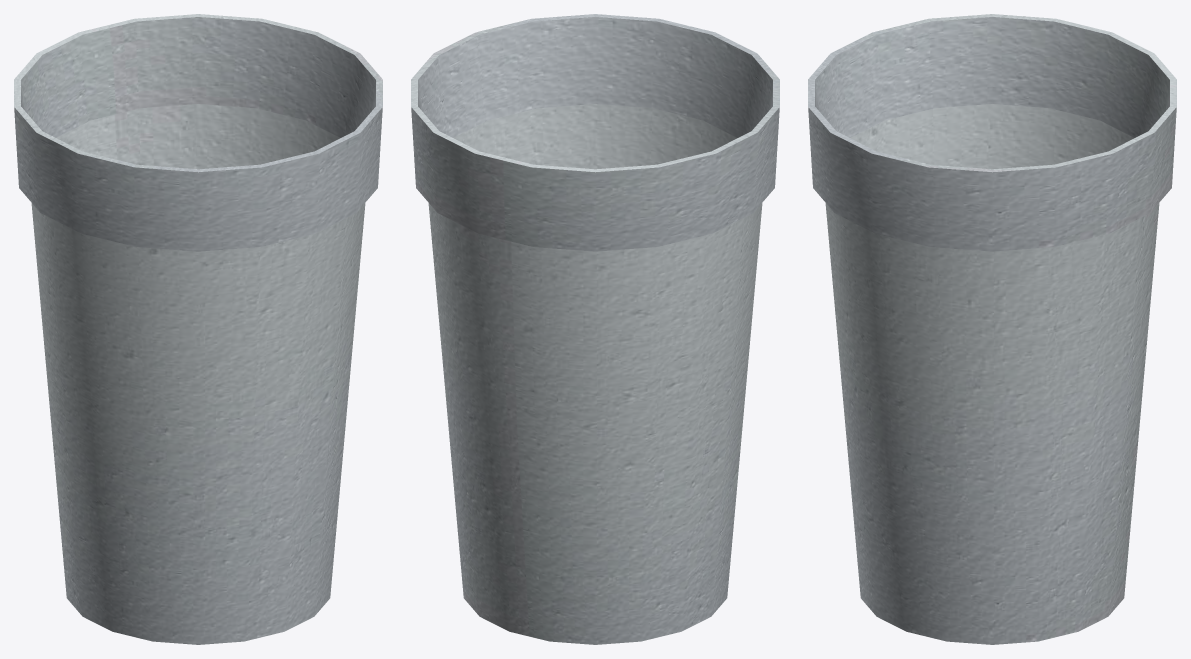
Rendered from cup.gltf.
The picture shows the model from 3 angles, left to right: view 1: azimuth 30°, elevation 25°; view 2: azimuth 150°, elevation 25°; view 3: azimuth 270°, elevation 25°; orthographic projection.
Parts seen in each view (by area): view 1: Scene_Root; view 2: Scene_Root; view 3: Scene_Root.
Part boxes in pixels (bbox=[...]): Scene_Root: bbox=[14, 14, 382, 644]; Scene_Root: bbox=[411, 14, 779, 644]; Scene_Root: bbox=[808, 14, 1176, 644].
Size of the model in its own units: 0.0216 by 0.0315 by 0.0213.
1 material, 1 textured.
